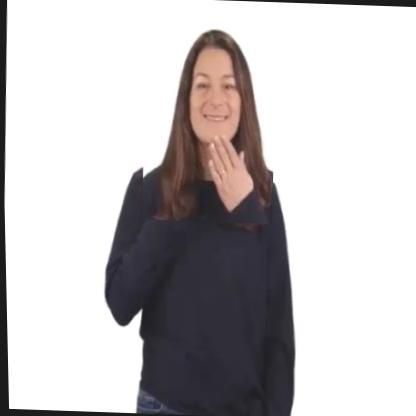ThankYou: (138, 13, 278, 224)
